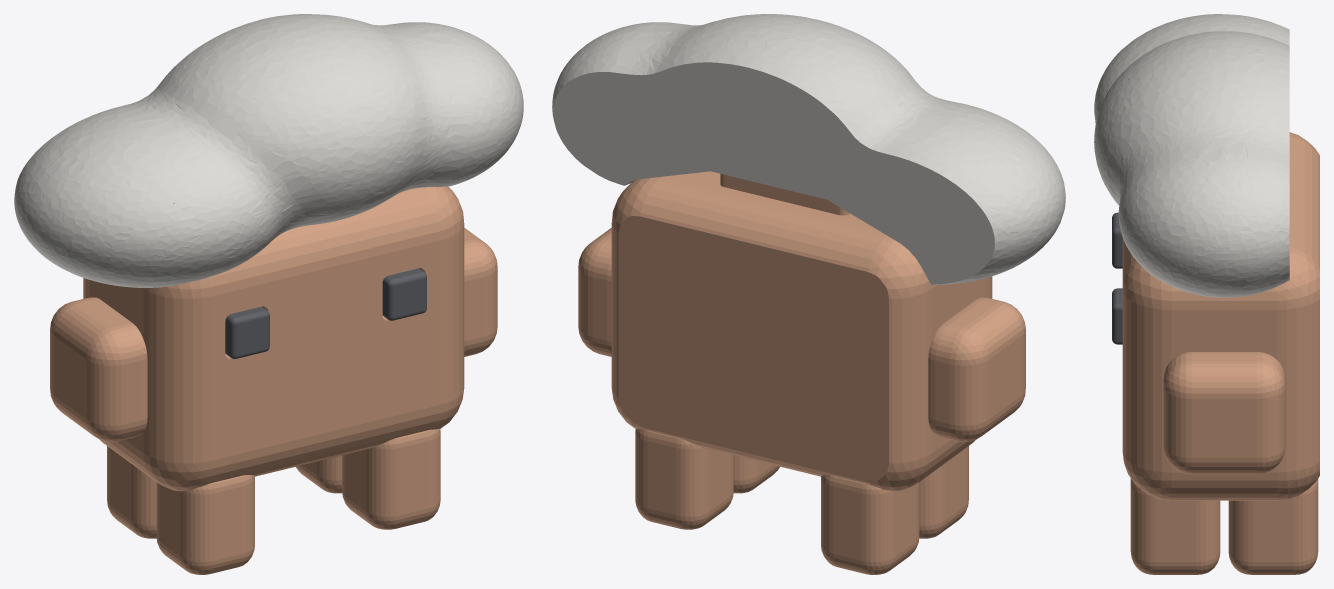
The model's file is A1-assembled.glb.
The picture shows the model from 3 angles, left to right: view 1: azimuth 30°, elevation 25°; view 2: azimuth 150°, elevation 25°; view 3: azimuth 270°, elevation 25°; orthographic projection.
Visible parts, largest first — view 1: A1_clawd, A1_cloud, A1_clawd_eye_1, A1_clawd_eye_2; view 2: A1_clawd, A1_cloud; view 3: A1_clawd, A1_cloud, A1_clawd_eye_2, A1_clawd_eye_1.
Part boxes in pixels (x1,y1,x2,y2): A1_clawd: [50, 186, 497, 574]; A1_cloud: [14, 14, 523, 287]; A1_clawd_eye_1: [225, 306, 269, 359]; A1_clawd_eye_2: [382, 268, 426, 320]; A1_clawd: [578, 171, 1025, 574]; A1_cloud: [552, 14, 1065, 284]; A1_clawd: [1122, 132, 1319, 574]; A1_cloud: [1094, 14, 1289, 297]; A1_clawd_eye_2: [1112, 288, 1122, 344]; A1_clawd_eye_1: [1112, 212, 1122, 268].
Bounding box in the file's own units: 0.0505 × 0.048 × 0.0207.
